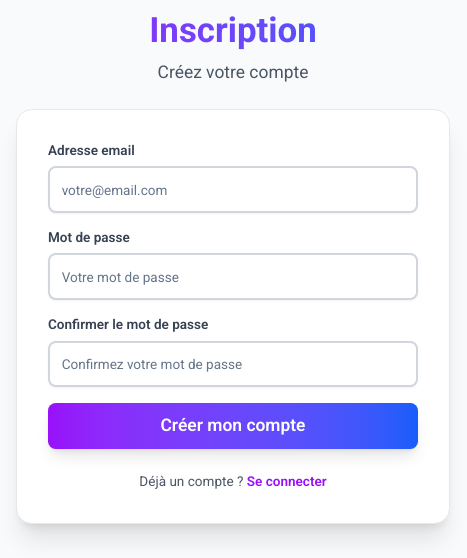
Test: inscription page › renders success state after happy signup
Type "foo@bar.com" into the field labelled "Adresse email" at (233, 190), box [48,166,418,213]
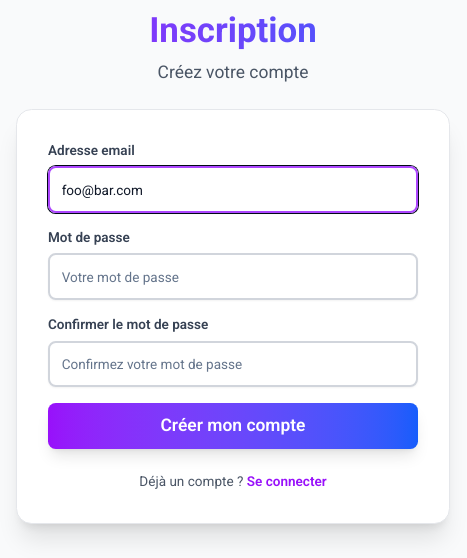
Type "goodpass1" into the password field labelled "Mot de passe" at (233, 277), box [48,254,418,300]
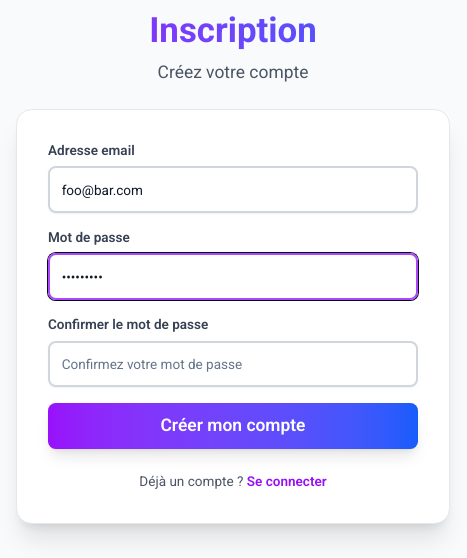
Type "goodpass1" into the password field labelled "Confirmer le mot de passe" at (233, 364), box [48,341,418,387]
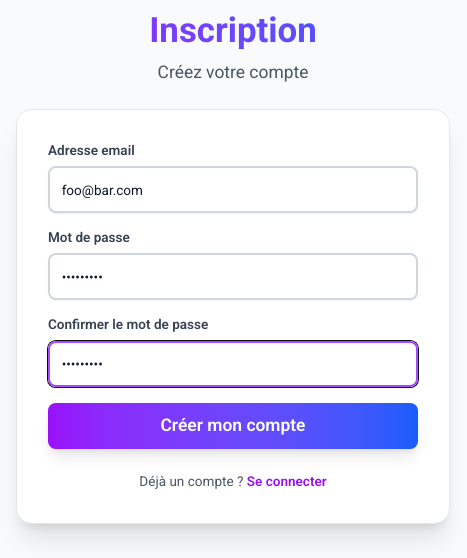
Click the button "Créer mon compte" at (233, 426), box [48,403,418,449]
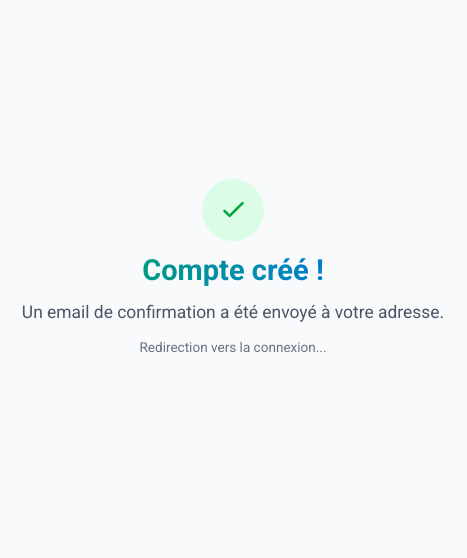
expect the heading "Compte créé !" is shown: met, box [16,252,450,287]
